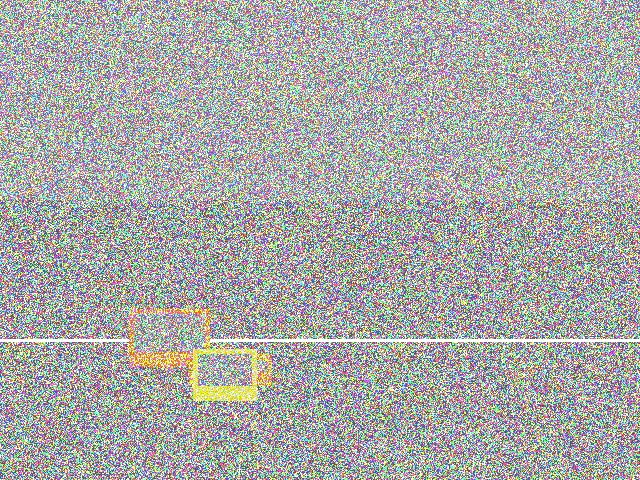bus: (63, 208, 150, 333)
motorcycle: (152, 137, 233, 217)
